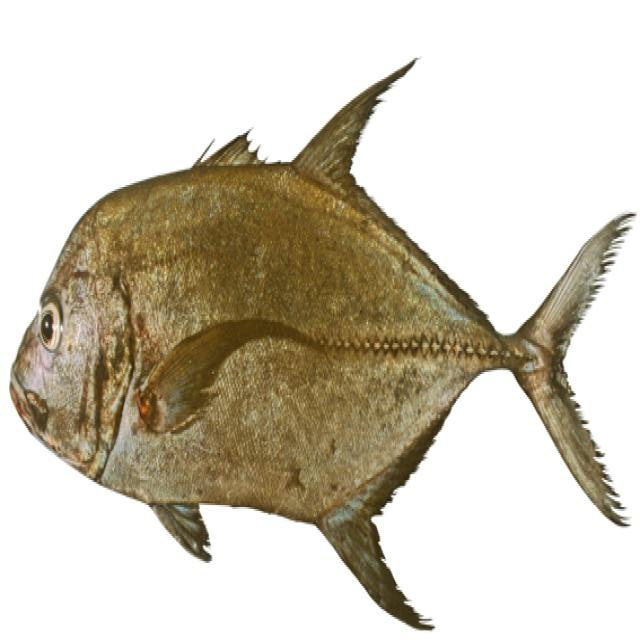ikan: (8, 54, 635, 630)
